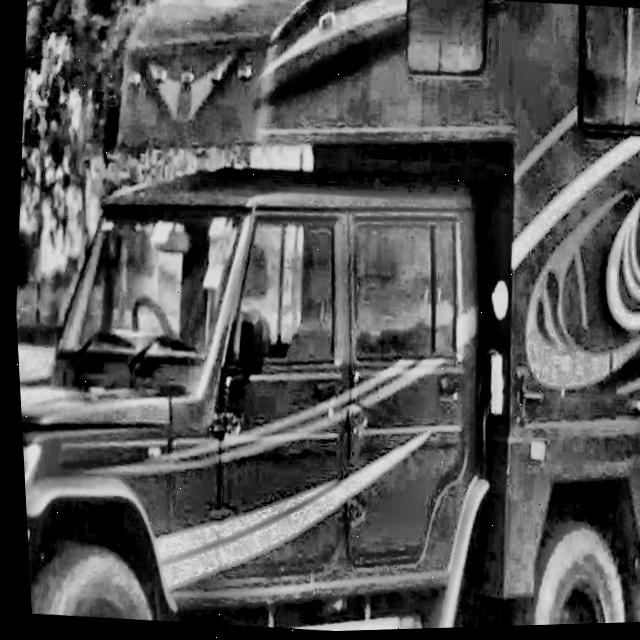light_vehicle: (9, 200, 500, 640)
